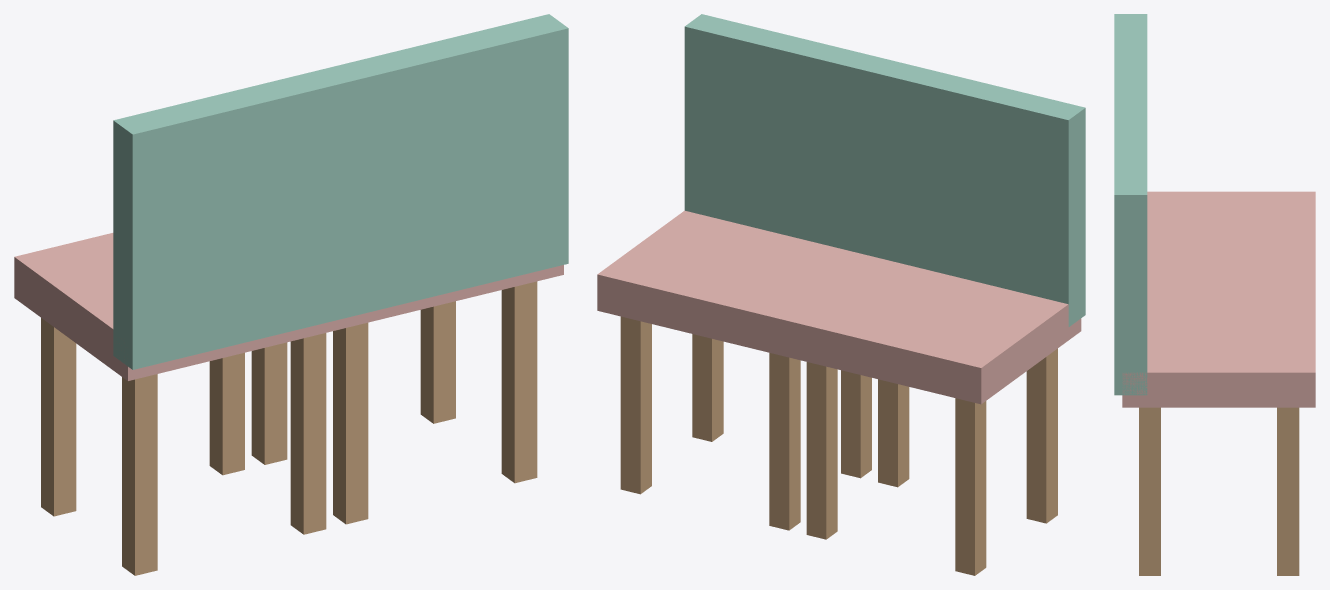
The model's file is bench.glb.
3 renders of one model, left to right at view 1: azimuth 30°, elevation 25°; view 2: azimuth 150°, elevation 25°; view 3: azimuth 270°, elevation 25°, orthographic. The views are drawn at different scales.
Visible parts, largest first — view 1: chair back.004, chair leg.002, chair seat.004; view 2: chair back.004, chair seat.004, chair leg.002; view 3: chair seat.004, chair back.004, chair leg.002.
Boxes of the visible parts, x1,y1,x2,y2 form: chair back.004: [113, 14, 568, 369]; chair leg.002: [41, 281, 537, 575]; chair seat.004: [14, 233, 563, 380]; chair back.004: [684, 14, 1085, 326]; chair seat.004: [597, 210, 1081, 404]; chair leg.002: [620, 316, 1057, 575]; chair seat.004: [1122, 191, 1315, 407]; chair back.004: [1114, 14, 1147, 395]; chair leg.002: [1139, 407, 1299, 575].
Bounding box in the file's own units: 1.55 × 1.55 × 0.73.
